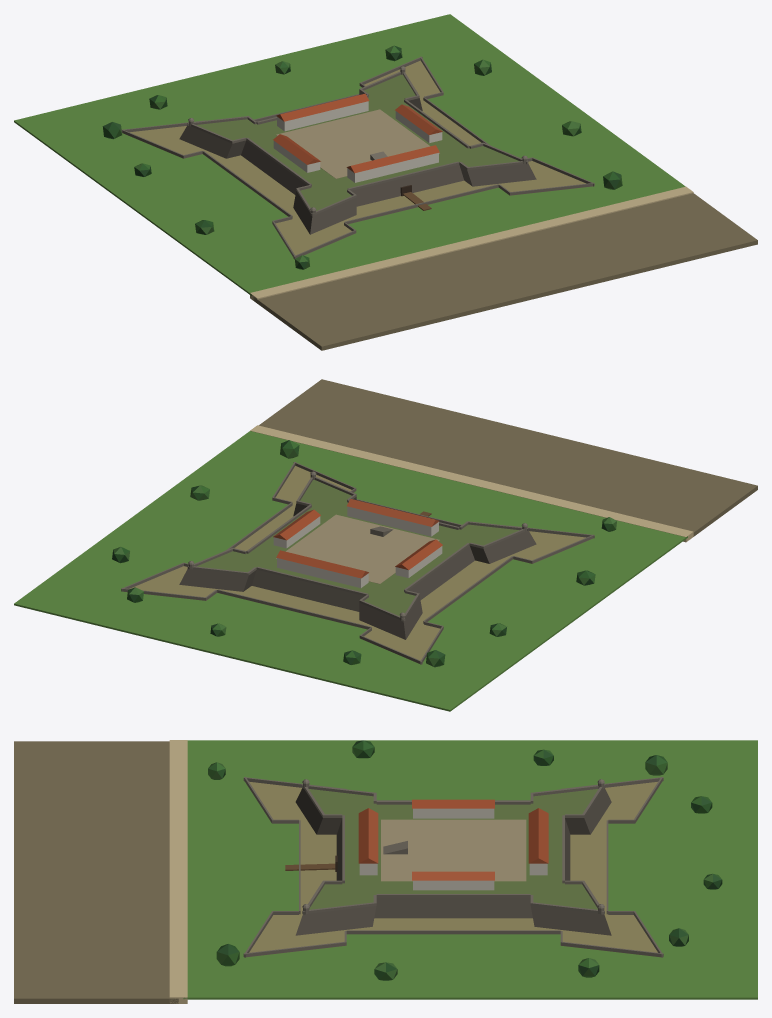
Rendered from fortaleza_macapa.glb.
3 renders of one model, top to bottom at view 1: azimuth 30°, elevation 25°; view 2: azimuth 150°, elevation 25°; view 3: azimuth 270°, elevation 25°, orthographic. The views are drawn at different scales.
Parts seen in each view (by area): view 1: fortaleza_macapa; view 2: fortaleza_macapa; view 3: fortaleza_macapa.
Part boxes in pixels (x1,y1,x2,y2): fortaleza_macapa: (14, 14, 757, 350); fortaleza_macapa: (14, 379, 757, 711); fortaleza_macapa: (14, 740, 757, 1003).
Bounding box in the file's own units: 270 × 20.6 × 330.
